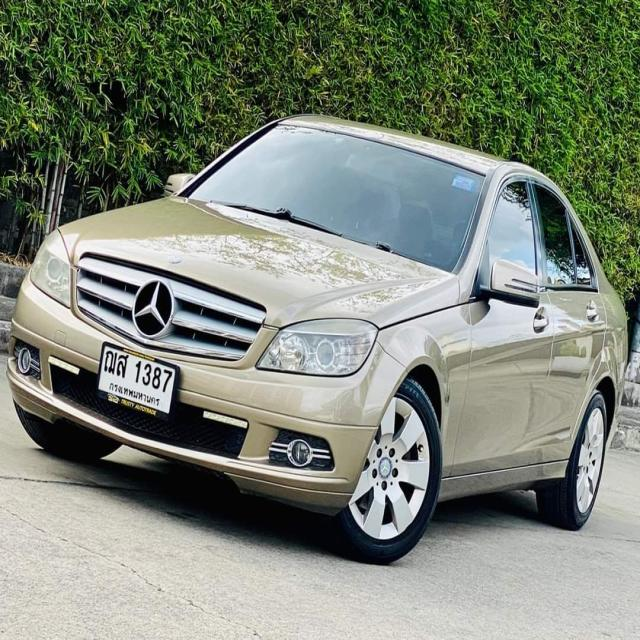license_plate: (91, 338, 183, 433)
